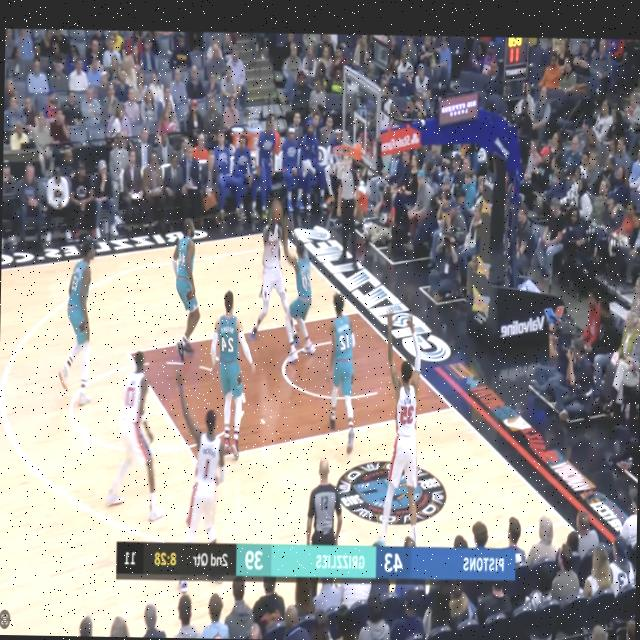no foul: (243, 192, 316, 386)
